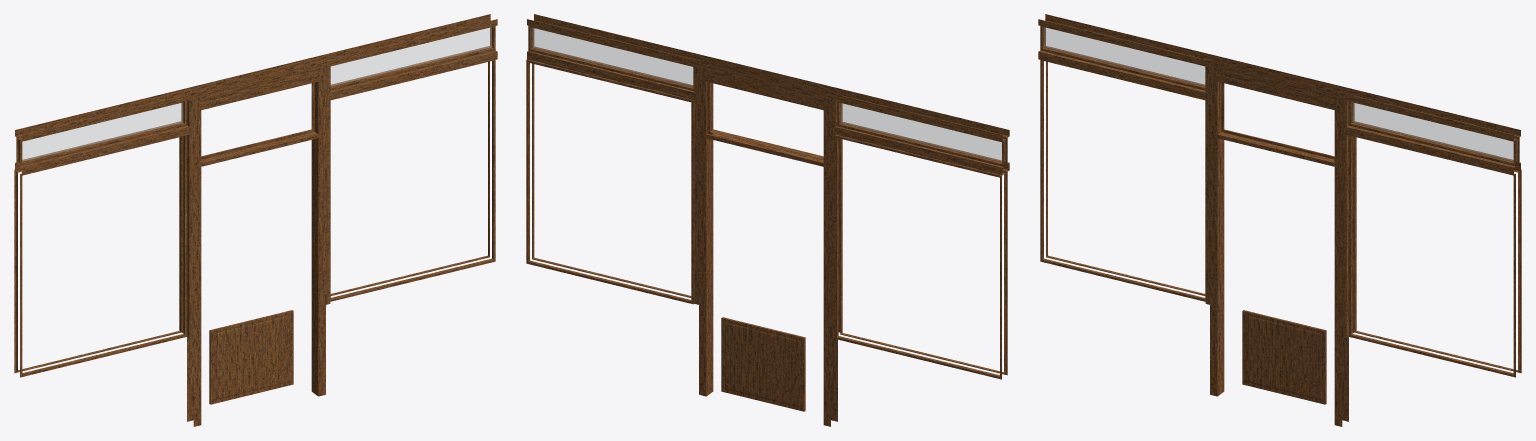
Rendered from bodega_frontage.glb.
The picture shows the model from 3 angles, left to right: view 1: azimuth 30°, elevation 25°; view 2: azimuth 150°, elevation 25°; view 3: azimuth 330°, elevation 25°; orthographic projection.
Parts seen in each view (by area): view 1: Frontage__oak_quartered, Frontage__glass, LeafPanel__oak_quartered; view 2: Frontage__oak_quartered, Frontage__glass, LeafPanel__oak_quartered; view 3: Frontage__oak_quartered, Frontage__glass, LeafPanel__oak_quartered.
Boxes of the visible parts, x1,y1,x2,y2 form: Frontage__oak_quartered: [14, 14, 497, 426]; Frontage__glass: [22, 27, 491, 161]; LeafPanel__oak_quartered: [209, 310, 293, 404]; Frontage__oak_quartered: [526, 14, 1009, 426]; Frontage__glass: [532, 28, 1001, 161]; LeafPanel__oak_quartered: [721, 317, 805, 411]; Frontage__oak_quartered: [1038, 14, 1521, 426]; Frontage__glass: [1044, 27, 1513, 161]; LeafPanel__oak_quartered: [1242, 310, 1326, 404].
Size of the model in its own units: 3.96 by 2.65 by 0.131.
Materials: 2 (1 with a texture image).
